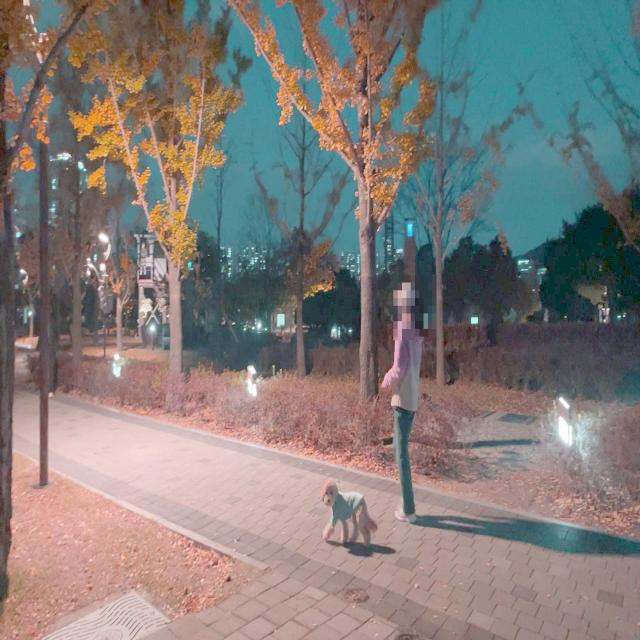Leashed_Dog: (319, 374, 409, 550)
